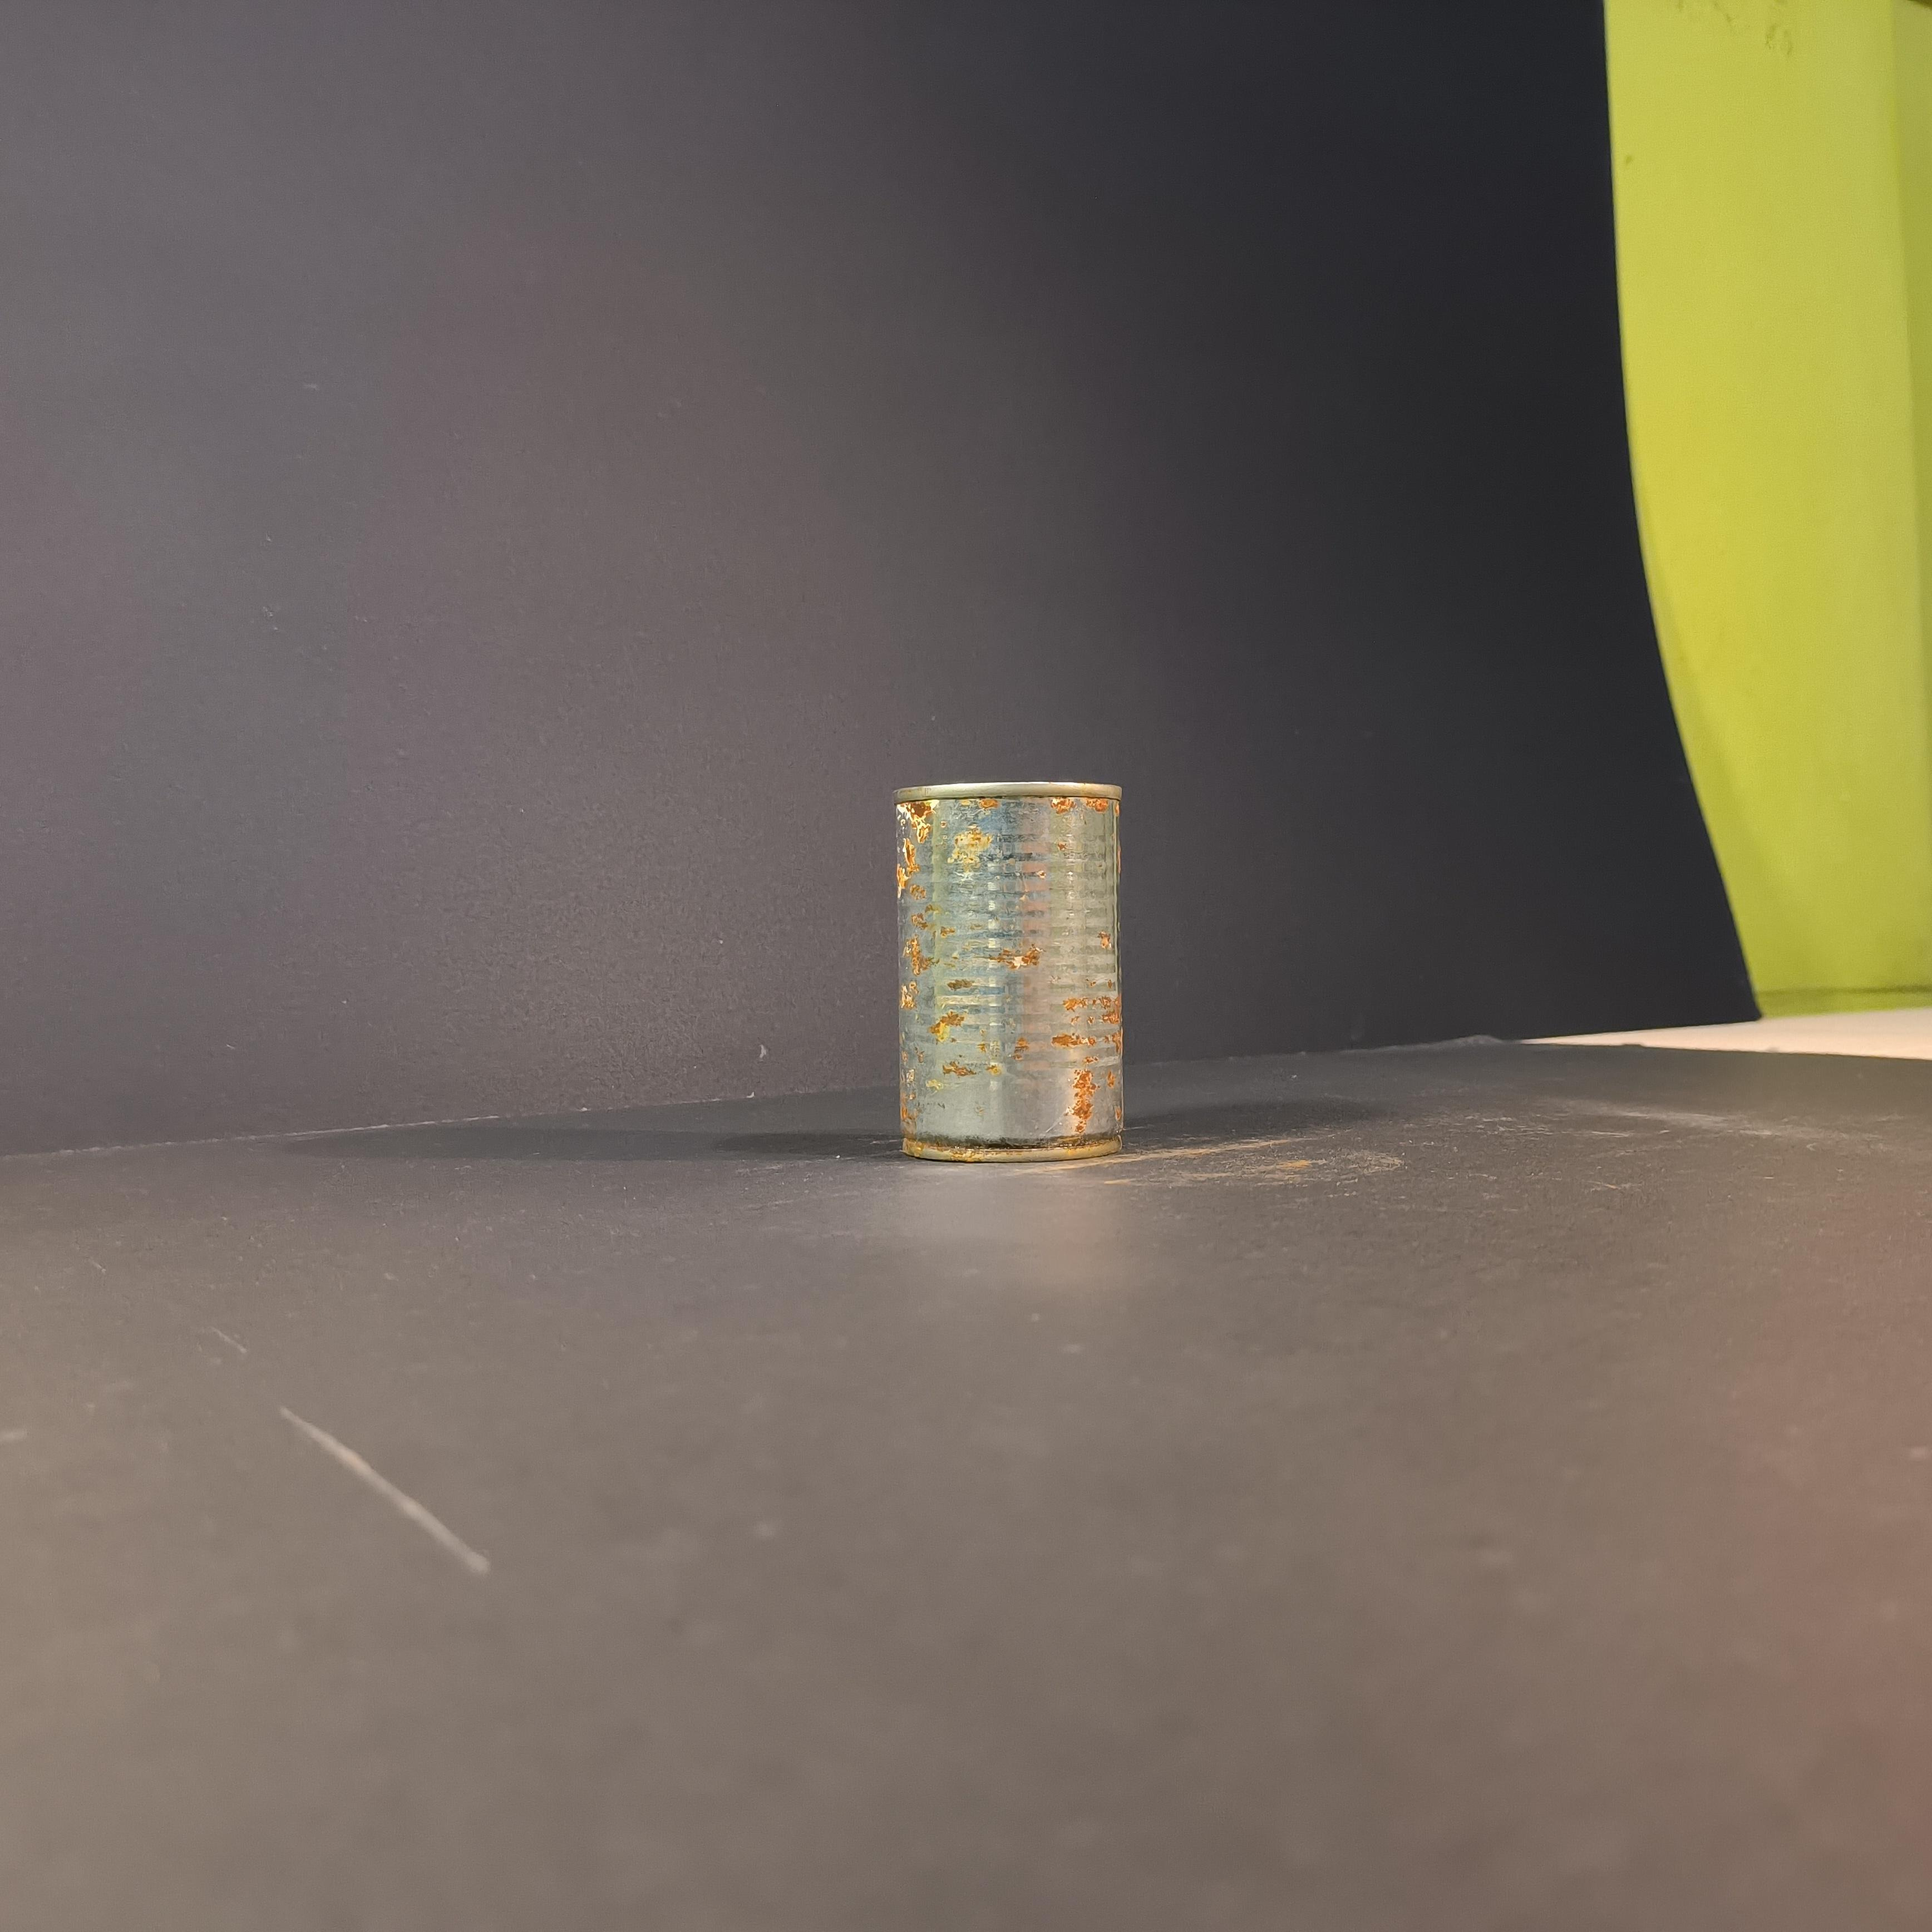Rusted: (865, 759, 1148, 1180)
